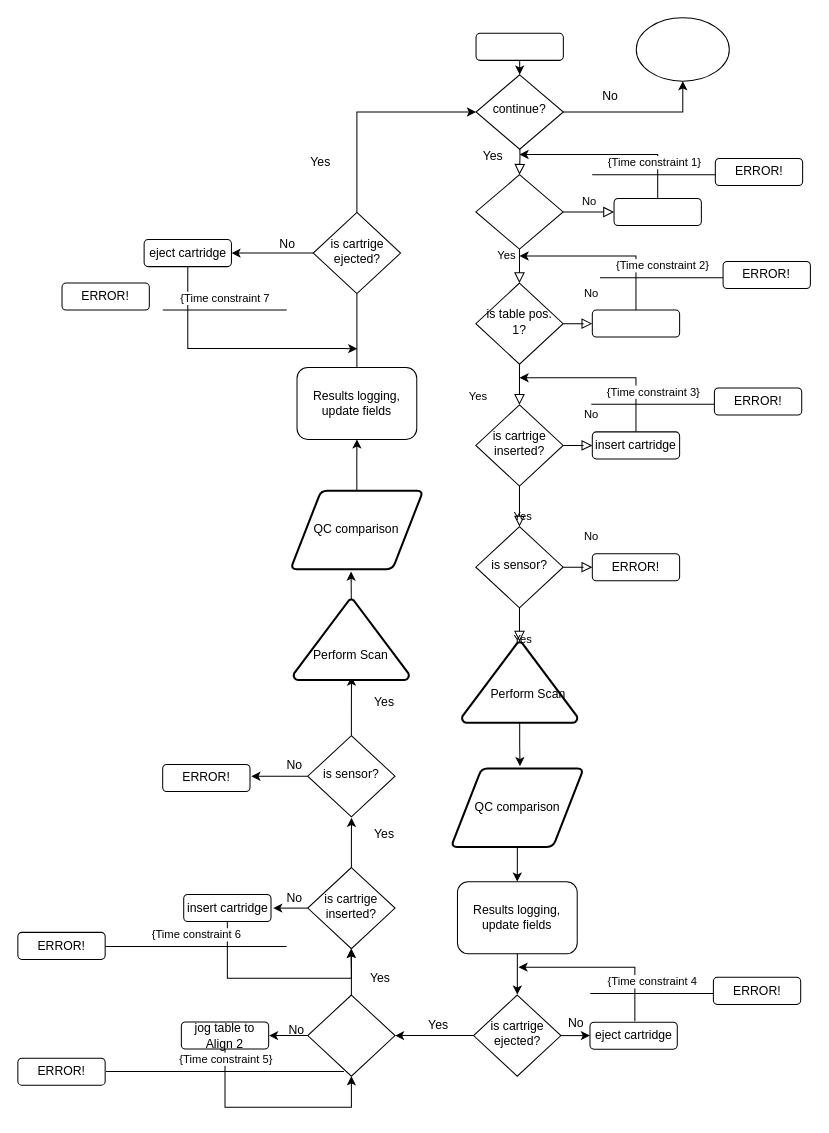
Image size: 829x1133. Some labels were removed from this diagram. Each missing label, with the centre of its shape:
Finish QC: (682,49)
Home robot: (657,211)
is robot homed or aligned?: (519,211)
is table pos. 2?: (351,1035)
Jog table to Align1: (635,323)
Start QC: (519,46)
